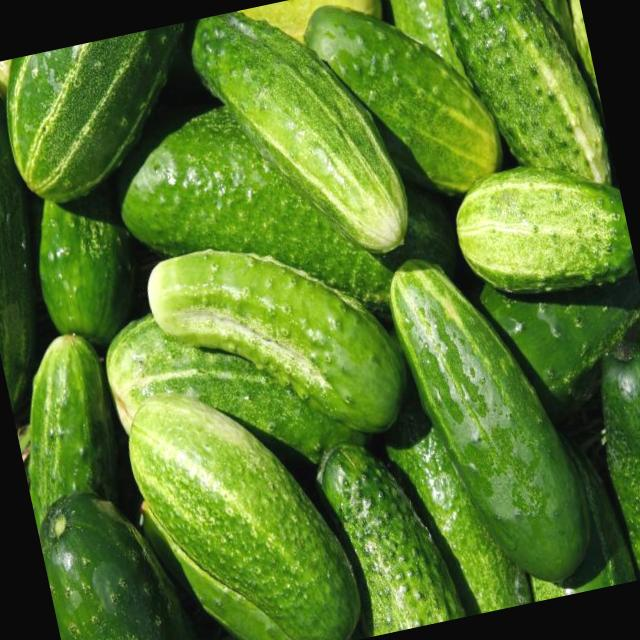Cucumber: (384, 234, 602, 592), (142, 215, 414, 479), (184, 0, 416, 289), (118, 366, 362, 640), (301, 0, 509, 219), (0, 22, 220, 212), (439, 0, 616, 210), (312, 426, 468, 638), (448, 148, 638, 312), (32, 479, 199, 640), (22, 183, 156, 359)
